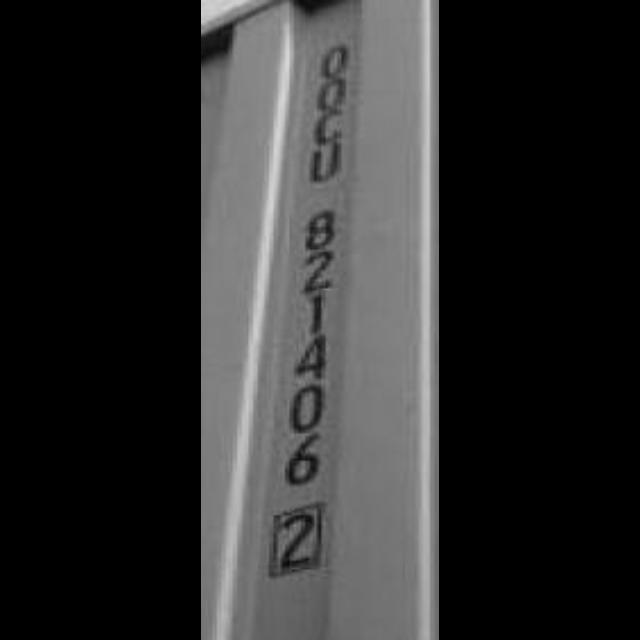0: (287, 379, 331, 437)
1: (294, 289, 340, 337)
2: (276, 502, 326, 578), (294, 247, 344, 293)
4: (287, 332, 339, 382)
6: (278, 430, 334, 498)
8: (296, 202, 344, 255)
c: (307, 106, 351, 148)
o: (309, 37, 357, 83), (309, 73, 353, 113)
u: (304, 140, 348, 187)
